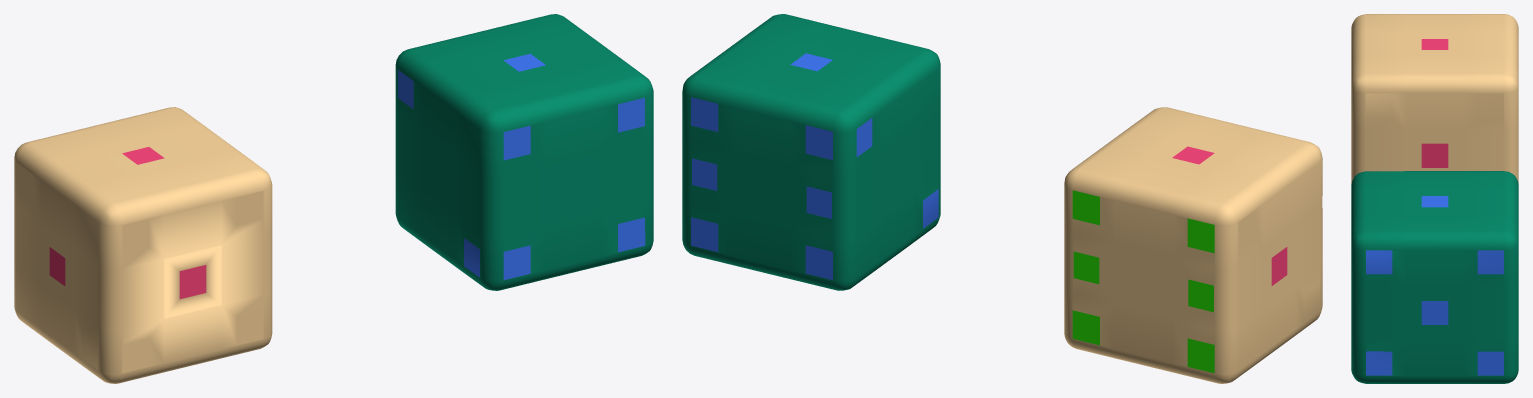
File: Grow_AllinDice.fbx
The picture shows the model from 3 angles, left to right: view 1: azimuth 30°, elevation 25°; view 2: azimuth 150°, elevation 25°; view 3: azimuth 270°, elevation 25°; orthographic projection. The views are drawn at different scales.
Parts seen in each view (by area): view 1: Aliin, ShledDice.001; view 2: ShledDice.001, Aliin; view 3: ShledDice.001, Aliin.
Part boxes in pixels (bbox=[...]): Aliin: bbox=[14, 107, 272, 383]; ShledDice.001: bbox=[395, 14, 653, 290]; ShledDice.001: bbox=[682, 14, 940, 290]; Aliin: bbox=[1064, 107, 1322, 383]; ShledDice.001: bbox=[1351, 171, 1518, 383]; Aliin: bbox=[1351, 14, 1518, 183].
Size of the model in its own units: 644 by 200 by 200.
